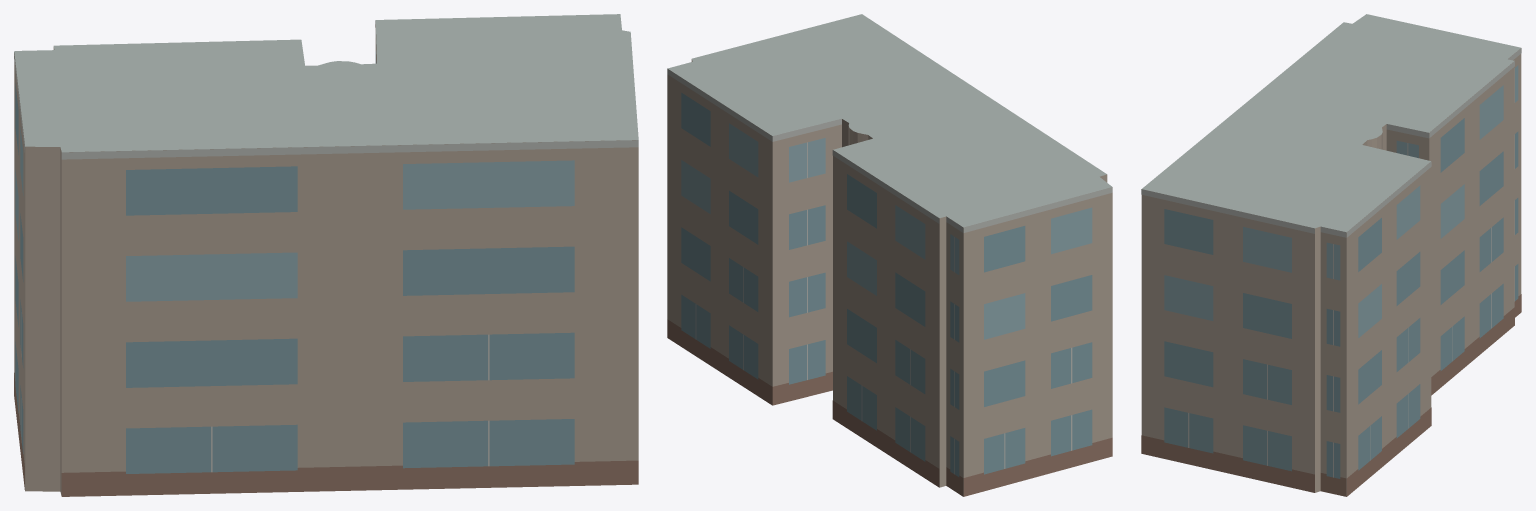
The model's file is survey-upis-32893431.glb.
3 views of the same model, side by side, from view 1: azimuth 30°, elevation 25°; view 2: azimuth 150°, elevation 25°; view 3: azimuth 270°, elevation 25° (orthographic). The views are drawn at different scales.
Visible parts, largest first — view 1: survey-upis-32893431.tmp; view 2: survey-upis-32893431.tmp; view 3: survey-upis-32893431.tmp.
Part boxes in pixels (x1,y1,x2,y2): survey-upis-32893431.tmp: (14, 14, 638, 496); survey-upis-32893431.tmp: (667, 14, 1112, 496); survey-upis-32893431.tmp: (1141, 14, 1521, 496).
Size of the model in its own units: 20.35 by 11.5 by 14.97.
